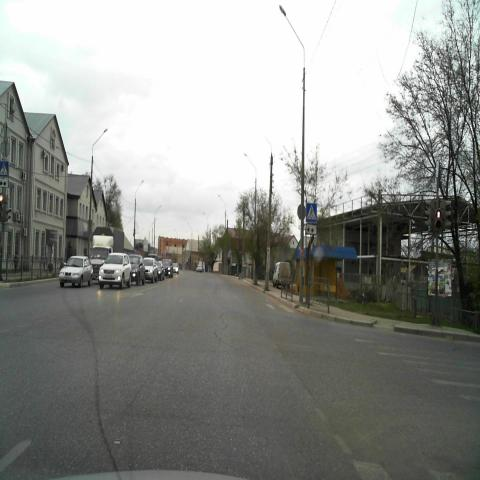8_15: (306, 224, 316, 234)
